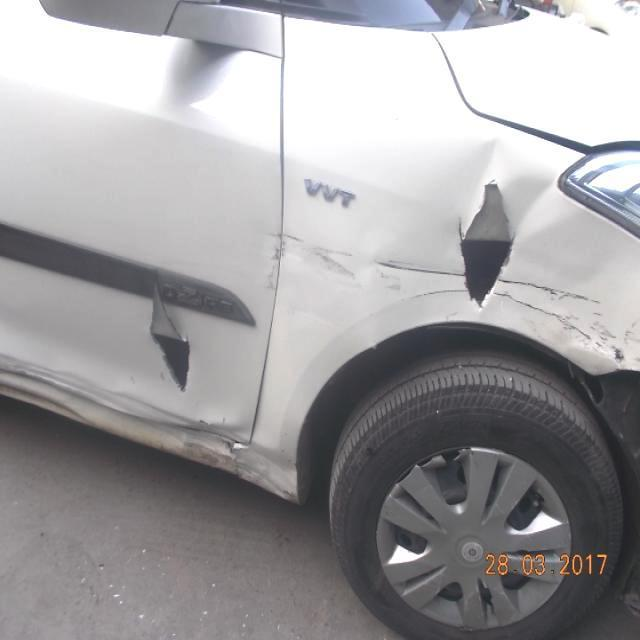minor: (284, 234, 396, 295)
moderate: (0, 355, 300, 502), (427, 163, 536, 321), (493, 282, 640, 373)
